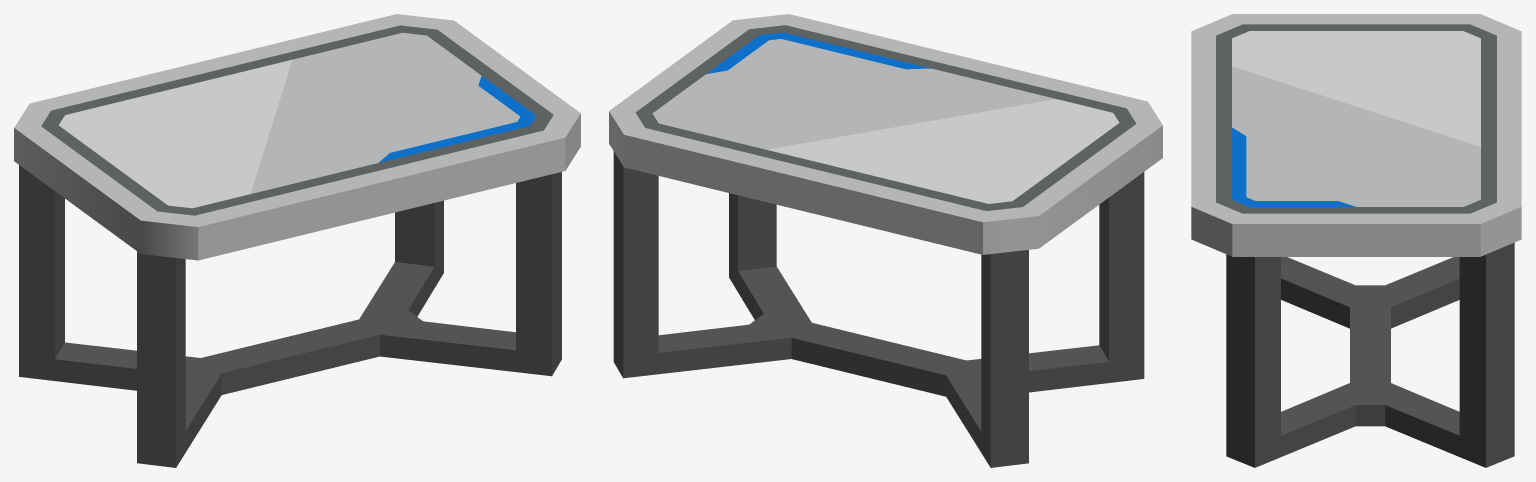
The model's file is Desk_021.glb.
3 renders of one model, left to right at view 1: azimuth 30°, elevation 25°; view 2: azimuth 150°, elevation 25°; view 3: azimuth 270°, elevation 25°, orthographic. The views are drawn at different scales.
Visible parts, largest first — view 1: Desk_021; view 2: Desk_021; view 3: Desk_021.
Part boxes in pixels (x1,y1,x2,y2): Desk_021: [14, 14, 580, 467]; Desk_021: [609, 14, 1162, 467]; Desk_021: [1191, 14, 1521, 467].
Size of the model in its own units: 1.46 by 0.8017 by 0.9698.
2 materials, 2 textured.
